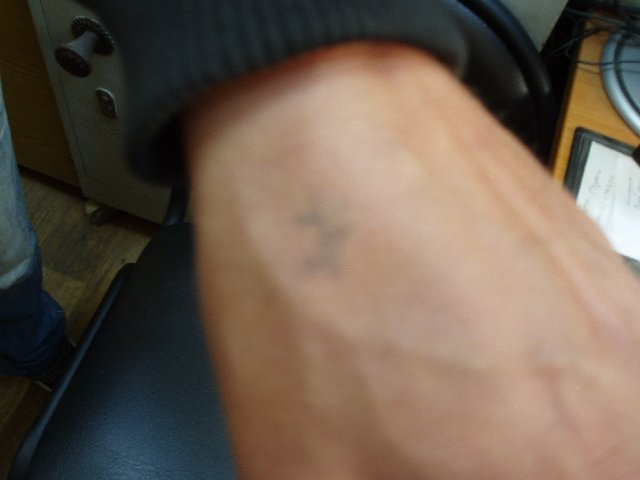tatu9_krest: (270, 181, 396, 295)
